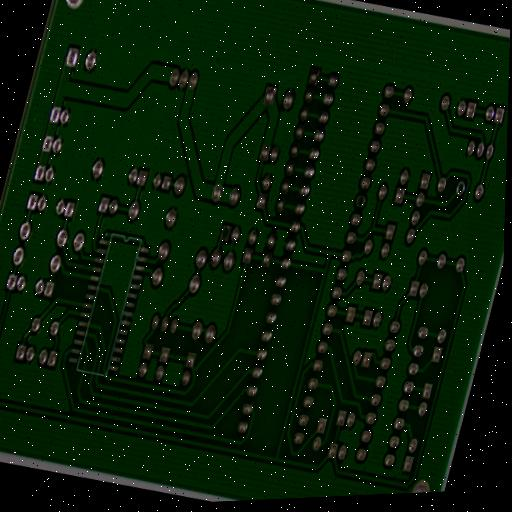missing_hole: (219, 224, 232, 242), (354, 194, 367, 208), (455, 182, 466, 198)
